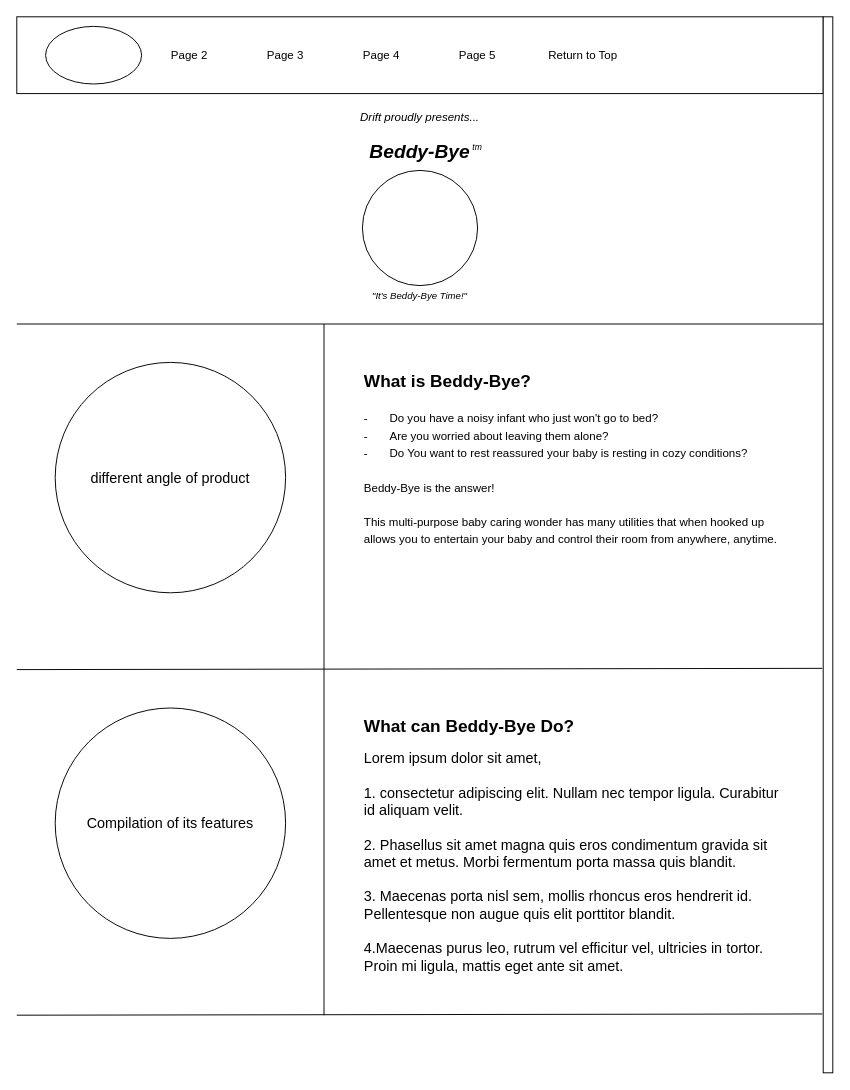
Image size: 850x1090. Some labels were removed from this diagram. The shapes that lost their labels are listed below. From the top down, each one's centre as x and y in pixels, then its label:
At point (93, 54): "Page 1".
At point (419, 227): "product".
